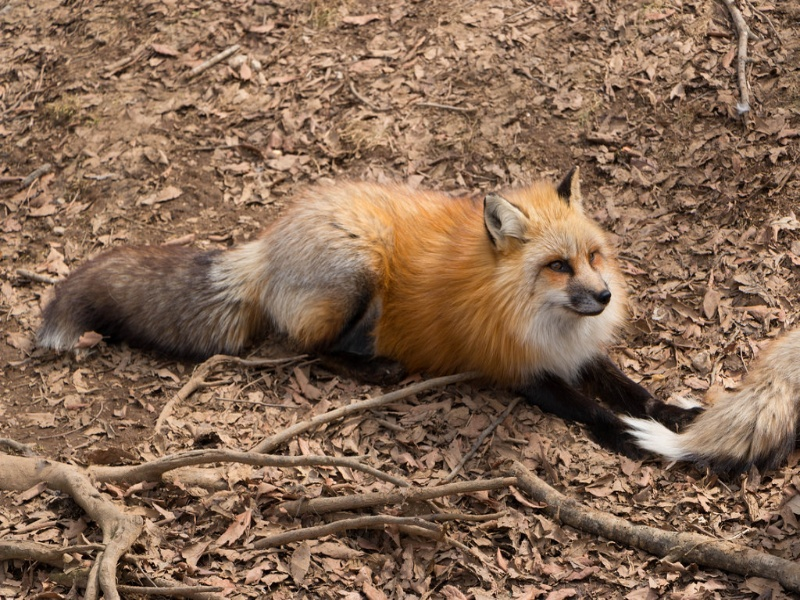fox: (33, 162, 692, 466)
